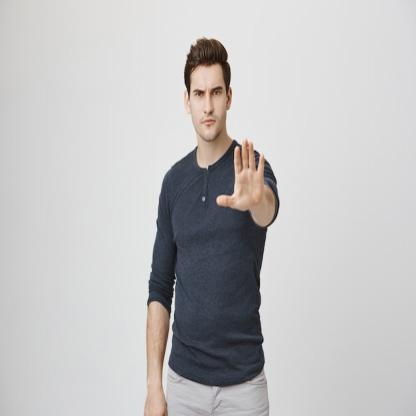stop: (214, 137, 268, 215)
